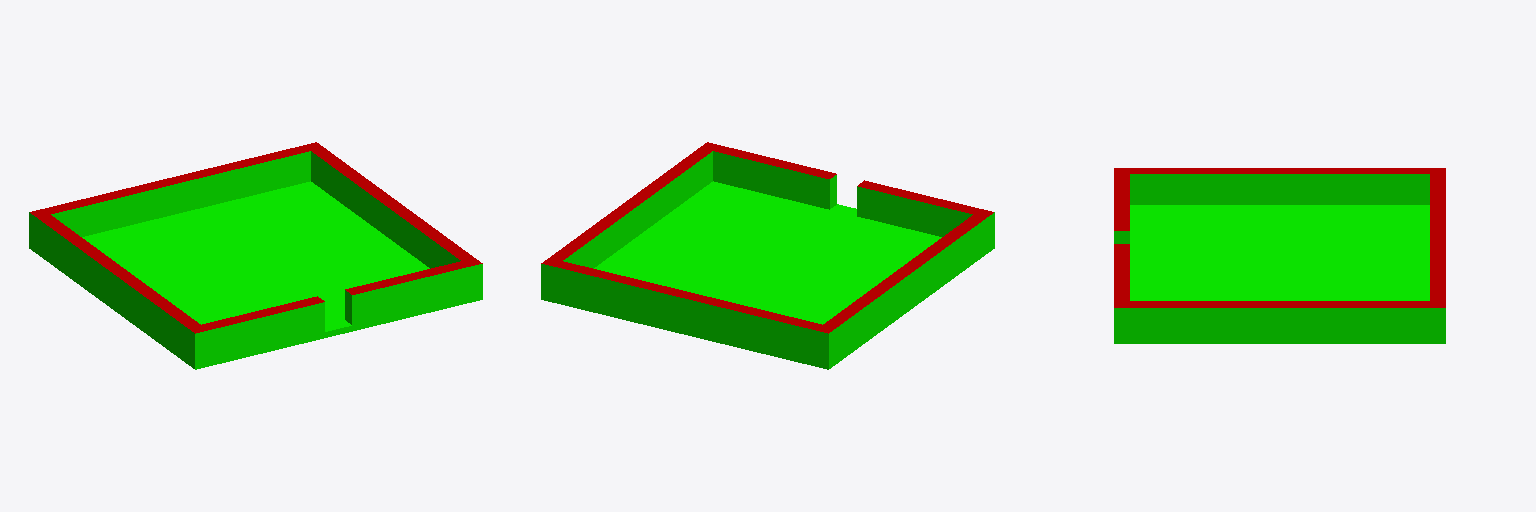
The model's file is City_test_01.obj.
3 views of the same model, side by side, from view 1: azimuth 30°, elevation 25°; view 2: azimuth 150°, elevation 25°; view 3: azimuth 270°, elevation 25° (orthographic).
Visible parts, largest first — view 1: Cube; view 2: Cube; view 3: Cube.
Boxes of the visible parts, <box> form: Cube: <box>29,142,482,369</box>; Cube: <box>541,142,994,369</box>; Cube: <box>1114,168,1445,343</box>.
Size of the model in its own units: 1000 by 121 by 1000.